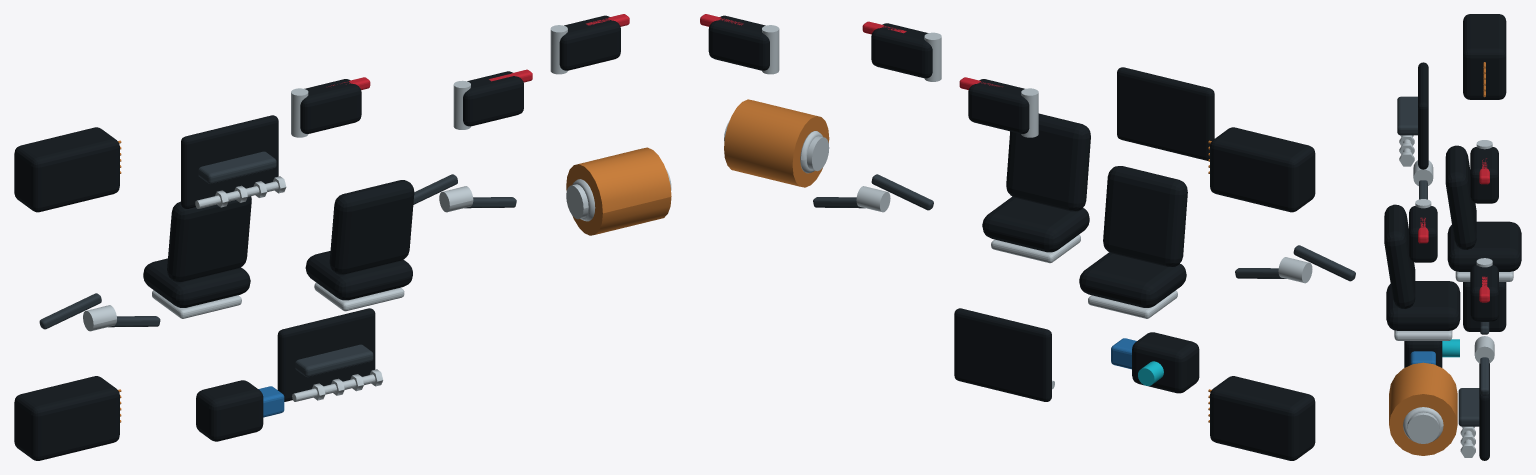
Rendered from generic_interior.glb.
The picture shows the model from 3 angles, left to right: view 1: azimuth 30°, elevation 25°; view 2: azimuth 150°, elevation 25°; view 3: azimuth 270°, elevation 25°; orthographic projection. The views are drawn at different scales.
Parts seen in each view (by area): view 1: system_mesh__seat_memory__housing, system_mesh__hvac_panel__housing, system_mesh__rear_seats__backrest, system_mesh__seat_motors__stator, system_mesh__front_seats__backrest, system_mesh__door_trims__outer_surface, system_mesh__armrest__outer_surface, system_mesh__occupant_sensor__sealed_body, system_mesh__front_seats__cushion, system_mesh__rear_seats__cushion, system_mesh__hazard_switch__body, system_mesh__light_switch__body (+9 smaller); view 2: system_mesh__door_trims__outer_surface, system_mesh__front_seats__backrest, system_mesh__hvac_panel__housing, system_mesh__seat_memory__housing, system_mesh__armrest__outer_surface, system_mesh__rear_seats__backrest, system_mesh__seat_motors__stator, system_mesh__rear_seats__cushion, system_mesh__front_seats__cushion, system_mesh__occupant_sensor__sealed_body, system_mesh__hazard_switch__body, system_mesh__light_switch__body (+8 smaller); view 3: system_mesh__seat_motors__stator, system_mesh__hvac_panel__housing, system_mesh__rear_seats__cushion, system_mesh__front_seats__cushion, system_mesh__front_seats__backrest, system_mesh__rear_seats__backrest, system_mesh__hazard_switch__body, system_mesh__defog_switch__body, system_mesh__light_switch__body, system_mesh__armrest__outer_surface, system_mesh__seat_memory__housing, system_mesh__door_trims__inner_reinforcement (+18 smaller).
Part boxes in pixels (<box>): system_mesh__seat_memory__housing: <box>14,376,119,460</box>; system_mesh__hvac_panel__housing: <box>14,127,119,212</box>; system_mesh__rear_seats__backrest: <box>329,180,414,274</box>; system_mesh__seat_motors__stator: <box>566,147,671,235</box>; system_mesh__front_seats__backrest: <box>167,196,251,282</box>; system_mesh__door_trims__outer_surface: <box>277,308,375,401</box>; system_mesh__armrest__outer_surface: <box>181,115,278,208</box>; system_mesh__occupant_sensor__sealed_body: <box>196,380,263,441</box>; system_mesh__front_seats__cushion: <box>143,258,250,307</box>; system_mesh__rear_seats__cushion: <box>305,251,412,300</box>; system_mesh__hazard_switch__body: <box>300,79,361,133</box>; system_mesh__light_switch__body: <box>559,15,620,70</box>; system_mesh__door_trims__outer_surface: <box>954,308,1051,401</box>; system_mesh__front_seats__backrest: <box>1103,166,1187,266</box>; system_mesh__hvac_panel__housing: <box>1210,127,1315,212</box>; system_mesh__seat_memory__housing: <box>1210,376,1315,460</box>; system_mesh__armrest__outer_surface: <box>1117,67,1214,160</box>; system_mesh__rear_seats__backrest: <box>1006,113,1090,211</box>; system_mesh__seat_motors__stator: <box>724,99,829,187</box>; system_mesh__rear_seats__cushion: <box>982,196,1089,252</box>; system_mesh__front_seats__cushion: <box>1079,252,1186,307</box>; system_mesh__occupant_sensor__sealed_body: <box>1132,332,1199,393</box>; system_mesh__hazard_switch__body: <box>968,79,1029,133</box>; system_mesh__light_switch__body: <box>708,15,769,70</box>; system_mesh__seat_motors__stator: <box>1389,362,1457,455</box>; system_mesh__hvac_panel__housing: <box>1463,14,1506,99</box>; system_mesh__rear_seats__cushion: <box>1386,281,1460,330</box>; system_mesh__front_seats__cushion: <box>1447,221,1521,271</box>; system_mesh__front_seats__backrest: <box>1445,145,1476,249</box>; system_mesh__rear_seats__backrest: <box>1384,204,1415,308</box>; system_mesh__hazard_switch__body: <box>1470,147,1498,203</box>; system_mesh__defog_switch__body: <box>1409,206,1437,262</box>; system_mesh__light_switch__body: <box>1470,265,1498,321</box>; system_mesh__armrest__outer_surface: <box>1418,62,1428,169</box>; system_mesh__seat_memory__housing: <box>1463,282,1506,331</box>; system_mesh__door_trims__inner_reinforcement: <box>1458,388,1479,426</box>.
Size of the model in its own units: 7.43 by 3.66 by 1.52.
